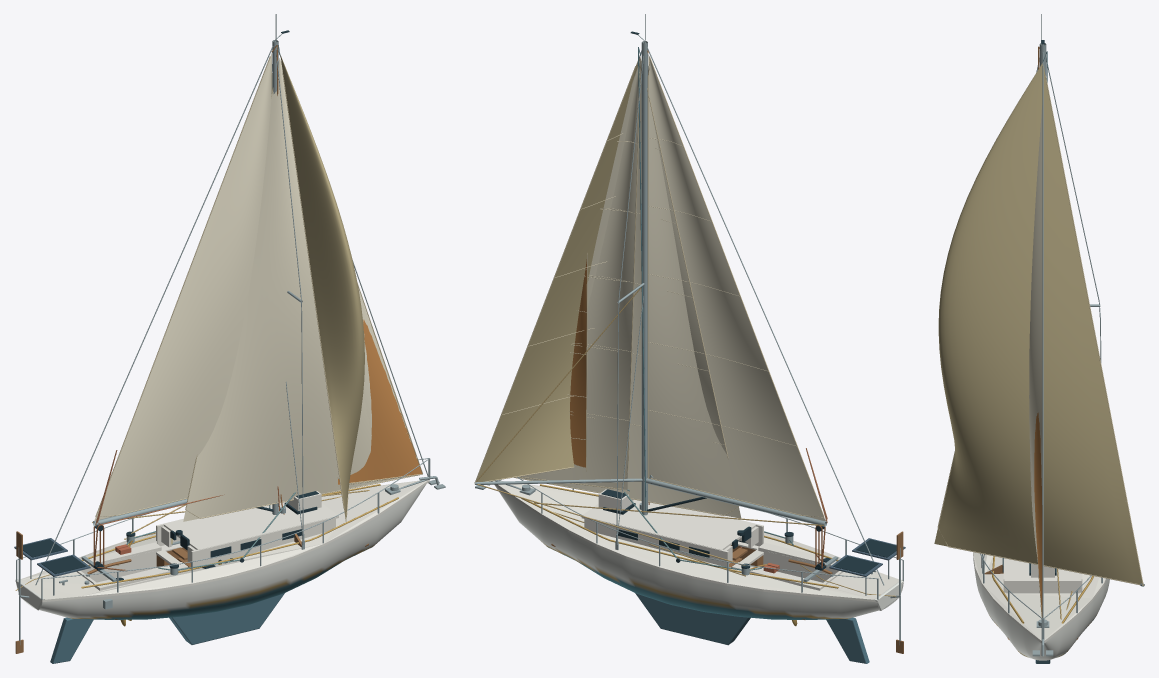
Rendered from cal40.glb.
3 views of the same model, side by side, from view 1: azimuth 30°, elevation 25°; view 2: azimuth 150°, elevation 25°; view 3: azimuth 270°, elevation 25° (orthographic). The views are drawn at different scales.
Visible parts, largest first — view 1: genoa, mainsail, spinnaker, hull, deck, cabin, storm-jib, keel, solar, lifelines, rudder, jib (+3 smaller); view 2: mainsail, spinnaker, jib, hull, deck, genoa, cabin, mast, keel, storm-jib, solar, rudder (+8 smaller); view 3: spinnaker, deck, jib, hull, cabin, storm-jib, forestay, shroud-port, lifelines.
Part boxes in pixels (x1=…): genoa: x1=183, y1=58, x2=422, y2=521; mainsail: x1=94, y1=53, x2=272, y2=520; spinnaker: x1=280, y1=55, x2=364, y2=522; hull: x1=15, y1=484, x2=425, y2=619; deck: x1=20, y1=480, x2=429, y2=602; cabin: x1=156, y1=501, x2=338, y2=569; storm-jib: x1=337, y1=319, x2=422, y2=484; keel: x1=169, y1=593, x2=284, y2=644; solar: x1=14, y1=538, x2=90, y2=595; lifelines: x1=16, y1=458, x2=430, y2=599; rudder: x1=50, y1=617, x2=93, y2=663; jib: x1=281, y1=62, x2=422, y2=486; mainsail: x1=647, y1=54, x2=825, y2=521; spinnaker: x1=474, y1=57, x2=641, y2=482; jib: x1=518, y1=59, x2=640, y2=489; hull: x1=494, y1=485, x2=903, y2=619; deck: x1=491, y1=480, x2=903, y2=602; genoa: x1=514, y1=59, x2=741, y2=518; cabin: x1=581, y1=499, x2=763, y2=566; mast: x1=641, y1=41, x2=647, y2=515; keel: x1=635, y1=593, x2=750, y2=645; storm-jib: x1=567, y1=253, x2=587, y2=471; solar: x1=829, y1=538, x2=905, y2=595; rudder: x1=826, y1=617, x2=869, y2=663; spinnaker: x1=934, y1=63, x2=1143, y2=585; deck: x1=973, y1=552, x2=1106, y2=642; jib: x1=1029, y1=105, x2=1042, y2=538; hull: x1=973, y1=558, x2=1109, y2=660; cabin: x1=1002, y1=558, x2=1082, y2=593; storm-jib: x1=1034, y1=412, x2=1042, y2=617; forestay: x1=1042, y1=44, x2=1043, y2=618; shroud-port: x1=1046, y1=58, x2=1101, y2=362; lifelines: x1=980, y1=553, x2=1102, y2=639.
Size of the model in its own units: 12.73 by 17.42 by 5.03.
